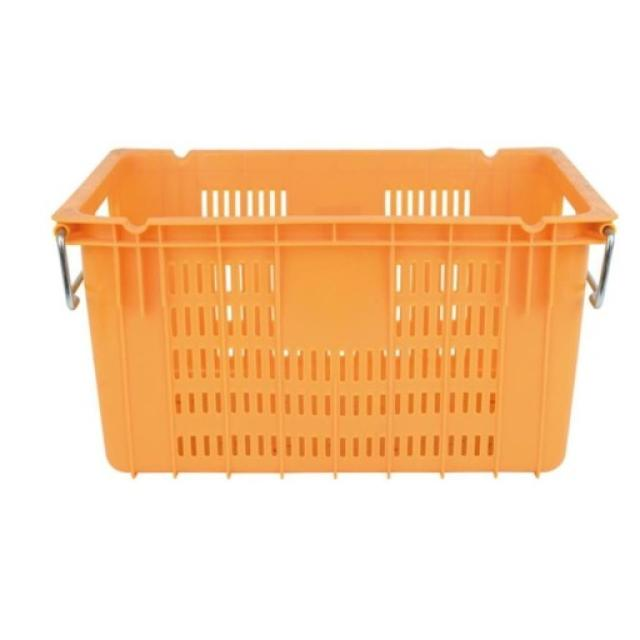basket: (55, 149, 618, 475)
